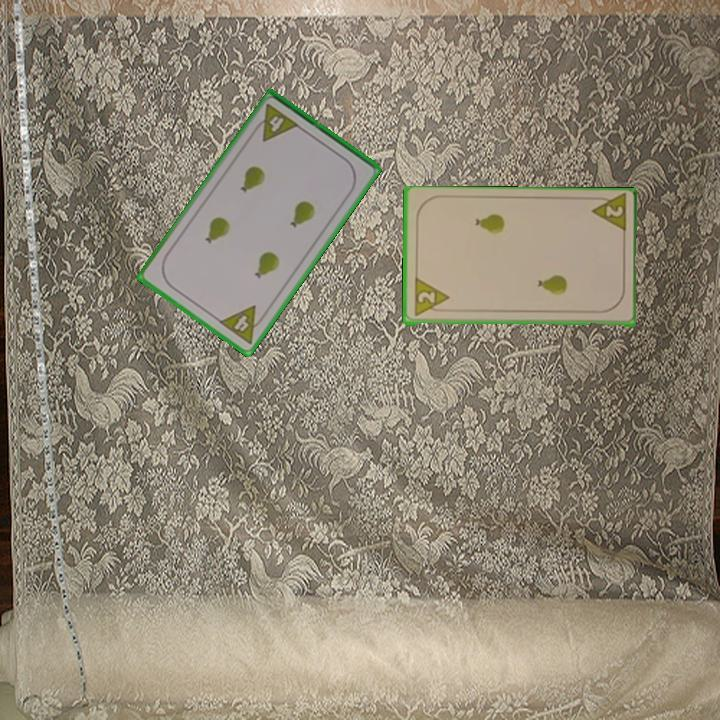2p: (587, 192, 629, 237), (411, 276, 451, 320)
4p: (215, 302, 270, 348), (249, 101, 302, 145)
